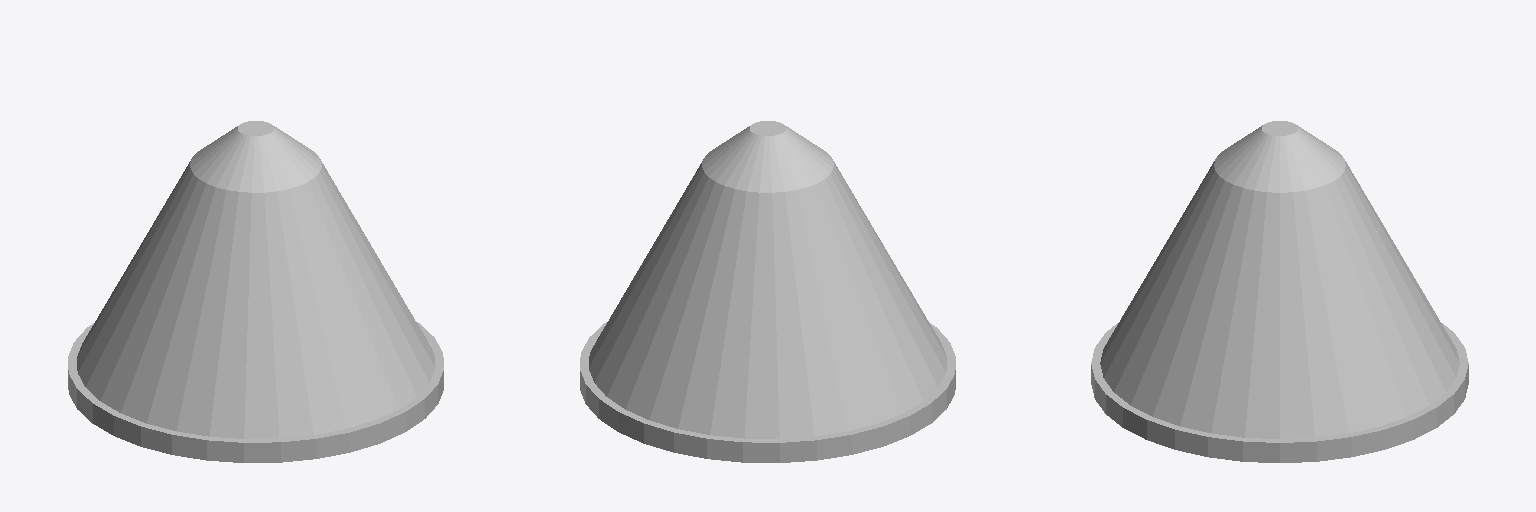
The model's file is Pod_T1.obj.
The picture shows the model from 3 angles: view 1: azimuth 30°, elevation 25°; view 2: azimuth 150°, elevation 25°; view 3: azimuth 270°, elevation 25°; orthographic projection.
Parts seen in each view (by area): view 1: Circle; view 2: Circle; view 3: Circle.
Boxes of the visible parts, <box> form: Circle: <box>68,121,443,462</box>; Circle: <box>580,121,955,462</box>; Circle: <box>1091,121,1468,462</box>.
Bounding box in the file's own units: 2 × 1.49 × 2.